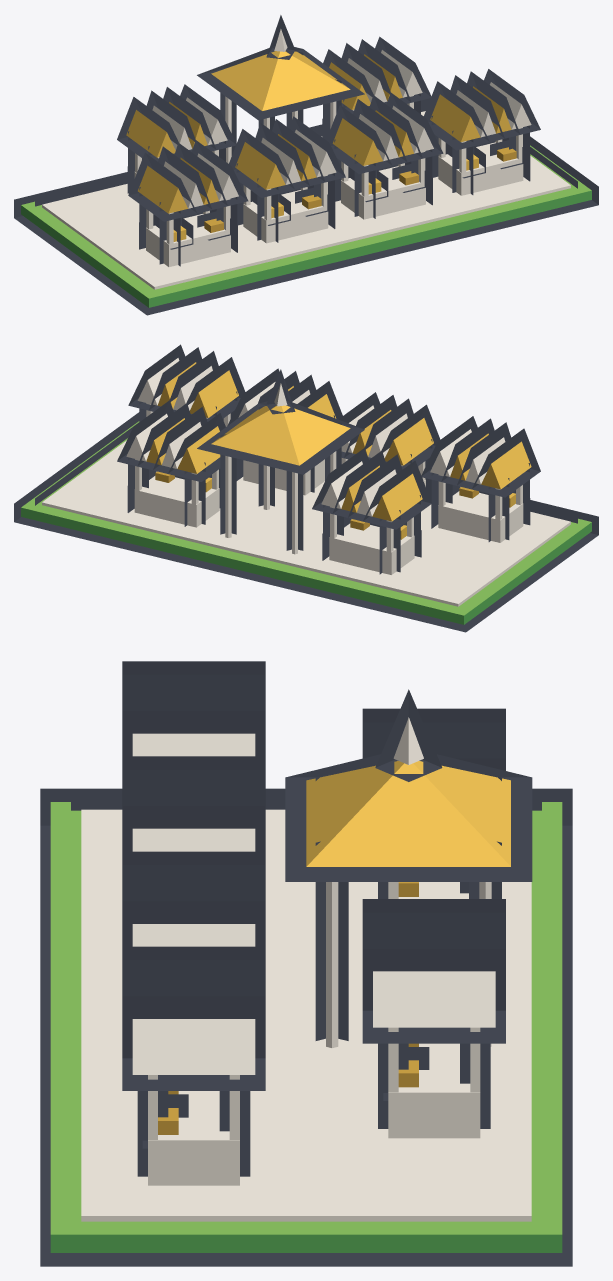
The model's file is skill_decimal_market_t3.glb.
3 renders of one model, top to bottom at view 1: azimuth 30°, elevation 25°; view 2: azimuth 150°, elevation 25°; view 3: azimuth 270°, elevation 25°, orthographic. The views are drawn at different scales.
Visible parts, largest first — view 1: ink_outline (×9), plaza, base, stall_1, stall_3, stall_2, stall_4, stall_canopy, stall_5, stall_6; view 2: ink_outline (×9), plaza, base, stall_canopy, stall_1, stall_5, stall_6, stall_4, stall_2, stall_3; view 3: ink_outline (×9), plaza, base, stall_canopy, stall_6, stall_4, stall_2, stall_1, stall_3, stall_5.
Boxes of the visible parts, x1,y1,x2,y2 form: ink_outline (×9): [14, 15, 598, 315]; plaza: [42, 111, 570, 289]; base: [21, 145, 591, 307]; stall_1: [138, 153, 238, 266]; stall_3: [332, 105, 433, 219]; stall_2: [235, 129, 336, 243]; stall_4: [430, 82, 531, 195]; stall_canopy: [211, 29, 350, 163]; stall_5: [126, 97, 227, 178]; stall_6: [329, 50, 422, 110]; ink_outline (×9): [14, 344, 598, 632]; plaza: [42, 440, 570, 606]; base: [21, 421, 591, 624]; stall_canopy: [211, 383, 350, 554]; stall_1: [430, 429, 531, 542]; stall_5: [321, 461, 422, 574]; stall_6: [126, 413, 220, 527]; stall_4: [137, 358, 238, 426]; stall_2: [341, 405, 433, 486]; stall_3: [238, 382, 336, 495]; ink_outline (×9): [40, 661, 572, 1266]; plaza: [81, 809, 531, 1221]; base: [50, 802, 562, 1252]; stall_canopy: [306, 717, 510, 1047]; stall_6: [373, 971, 495, 1138]; stall_4: [132, 1019, 255, 1185]; stall_2: [132, 828, 255, 851]; stall_1: [132, 733, 255, 756]; stall_3: [132, 924, 255, 946]; stall_5: [388, 882, 468, 898].
Size of the model in its own units: 2.04 by 0.77 by 1.04.
